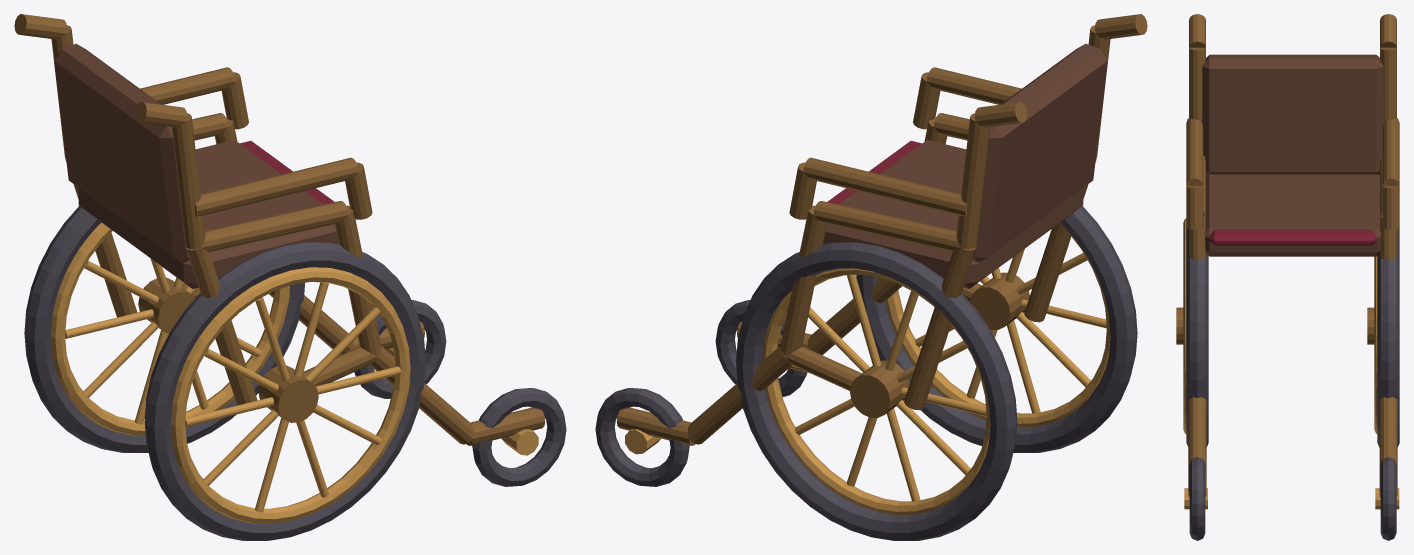
Rendered from SM_Workshop_DragonWheelchair.fbx.
3 renders of one model, left to right at view 1: azimuth 30°, elevation 25°; view 2: azimuth 150°, elevation 25°; view 3: azimuth 270°, elevation 25°, orthographic. The views are drawn at different scales.
Parts seen in each view (by area): view 1: SM_Workshop_DragonWheelchair; view 2: SM_Workshop_DragonWheelchair; view 3: SM_Workshop_DragonWheelchair.
Part boxes in pixels (box(x1,y1,x2,y2)): SM_Workshop_DragonWheelchair: box(14, 14, 566, 540); SM_Workshop_DragonWheelchair: box(595, 14, 1147, 540); SM_Workshop_DragonWheelchair: box(1176, 14, 1399, 540).
Bounding box in the file's own units: 148 × 84.2 × 157.
